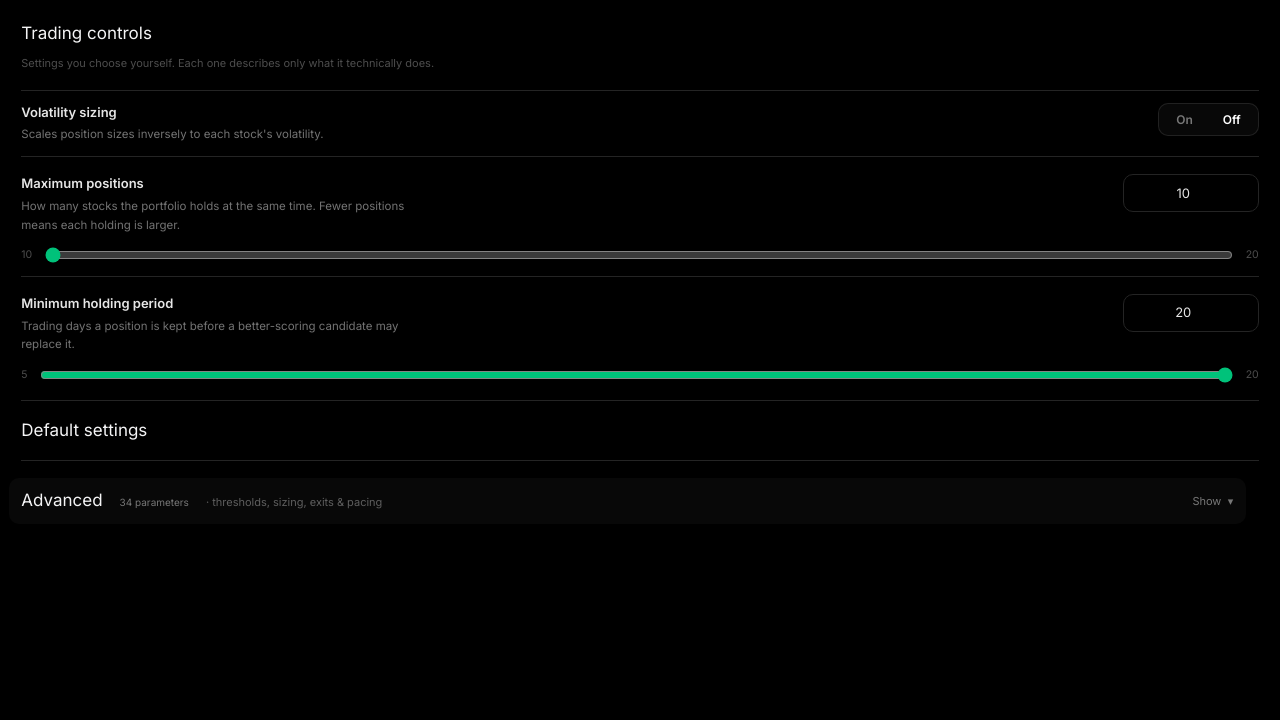
Test: Trading controls card › Default settings sets the shipped defaults as PENDING — nothing is written
This screenshot has width=1280, height=720.
Click the button "Default settings" at (84, 430), box [21,418,147,443]
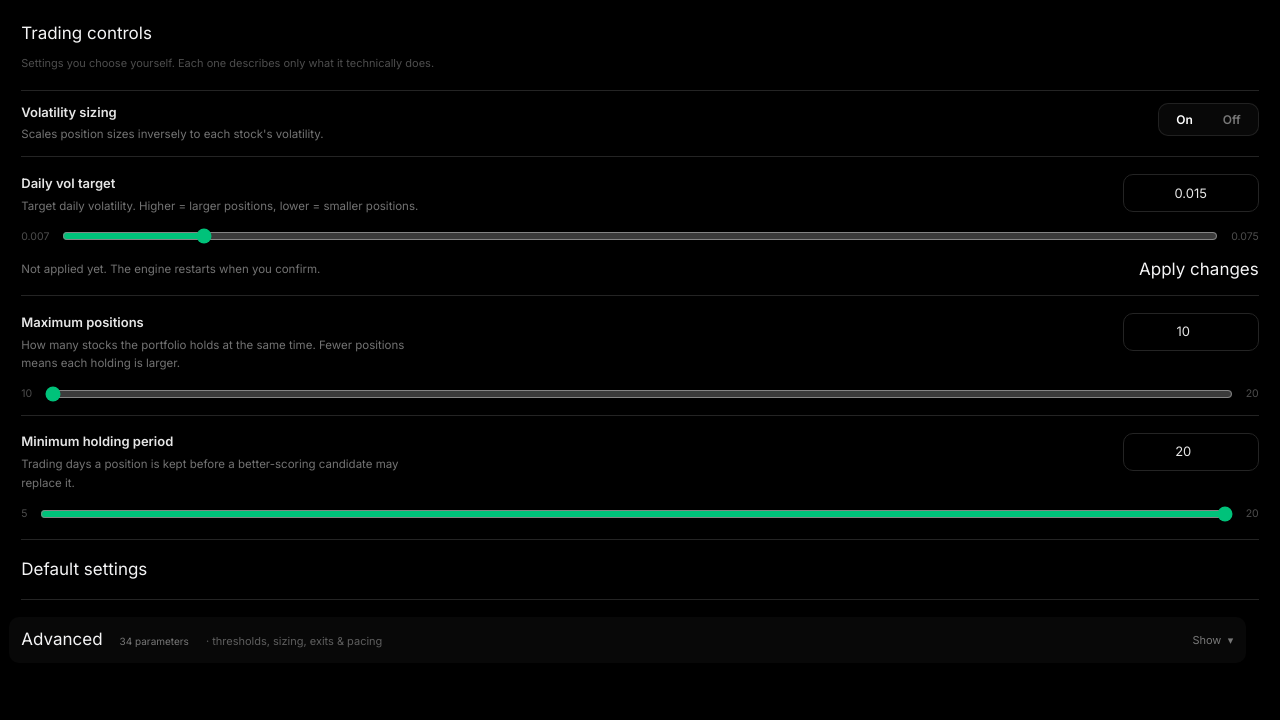
Now the field labelled "Daily vol target" holds "0.015", box [1123,174,1259,212]
Now the button with aria-label "apply volatility settings" is shown, box [1139,257,1259,282]
